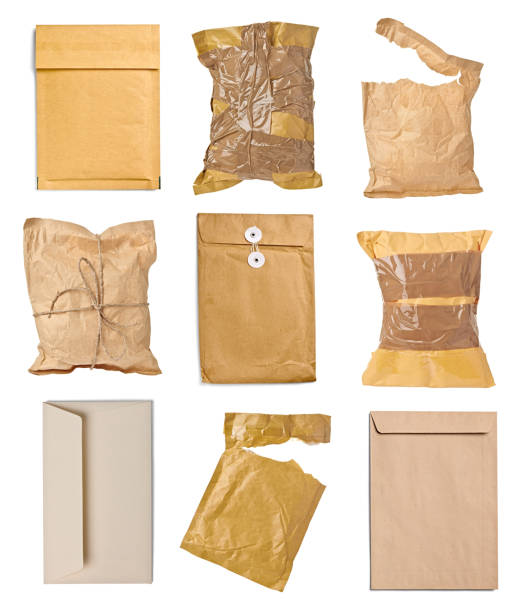Parcel: (188, 20, 322, 198), (368, 410, 498, 590), (21, 216, 162, 377), (354, 229, 496, 387), (36, 24, 161, 191), (43, 399, 152, 583), (198, 212, 314, 383)
